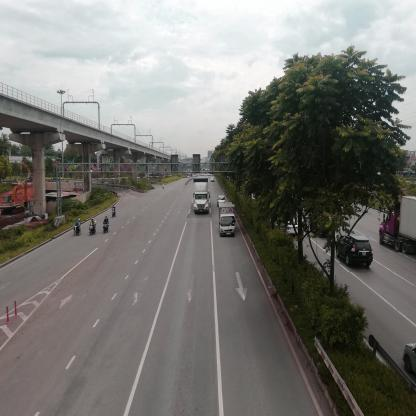car: (340, 237, 370, 273), (219, 195, 226, 206)
container: (381, 195, 416, 254), (195, 179, 211, 214)
motorbike: (89, 219, 98, 238), (75, 220, 82, 238), (104, 217, 111, 234), (111, 208, 117, 218), (162, 184, 165, 190)
truck: (220, 206, 236, 239)
